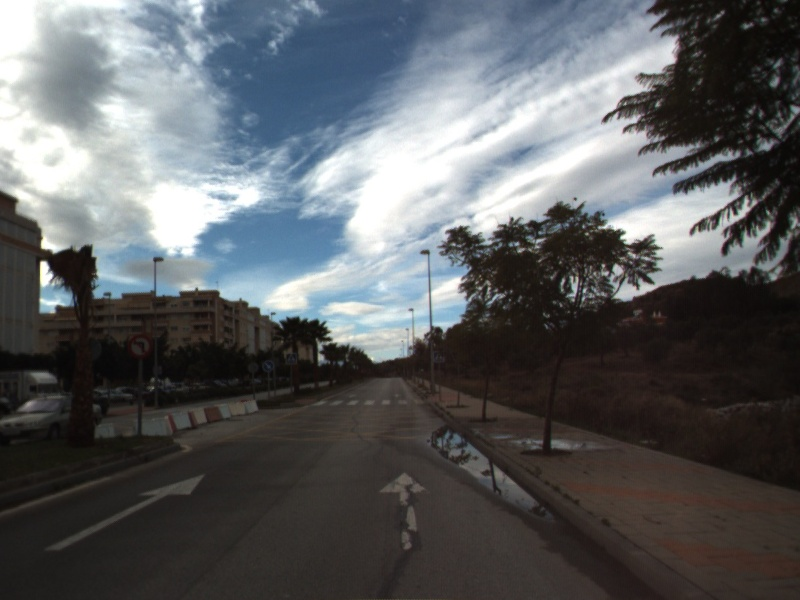STRAIGHT: (43, 472, 208, 552), (376, 470, 433, 553)
